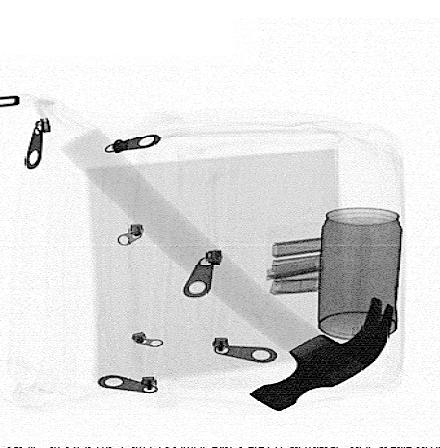Hammer: (57, 126, 395, 413)
